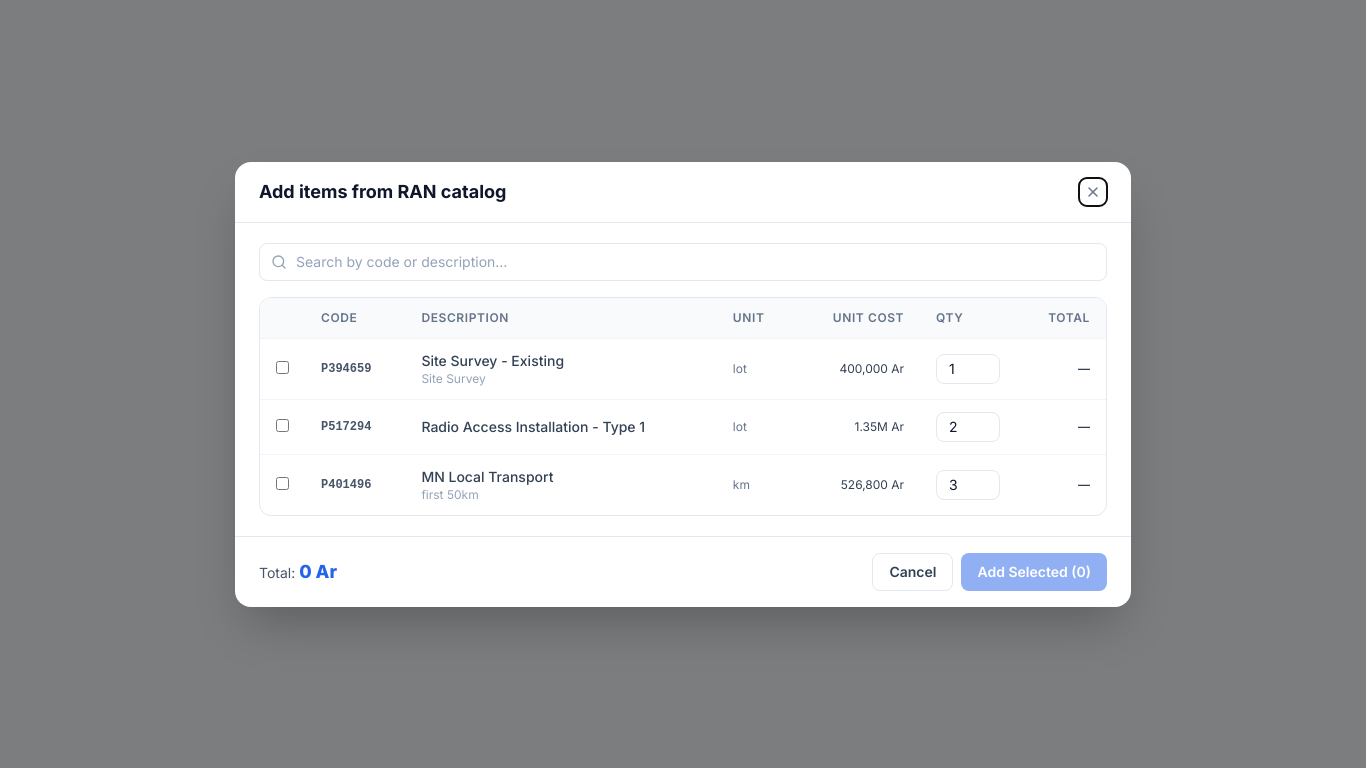
Test: ItemPickerModal — selection, quantity, totals › computes a live total from unit_cost × qty for checked rows
Click the checkbox named "Select P394659".
click(282, 367)  # box 276,360 -> 289,374
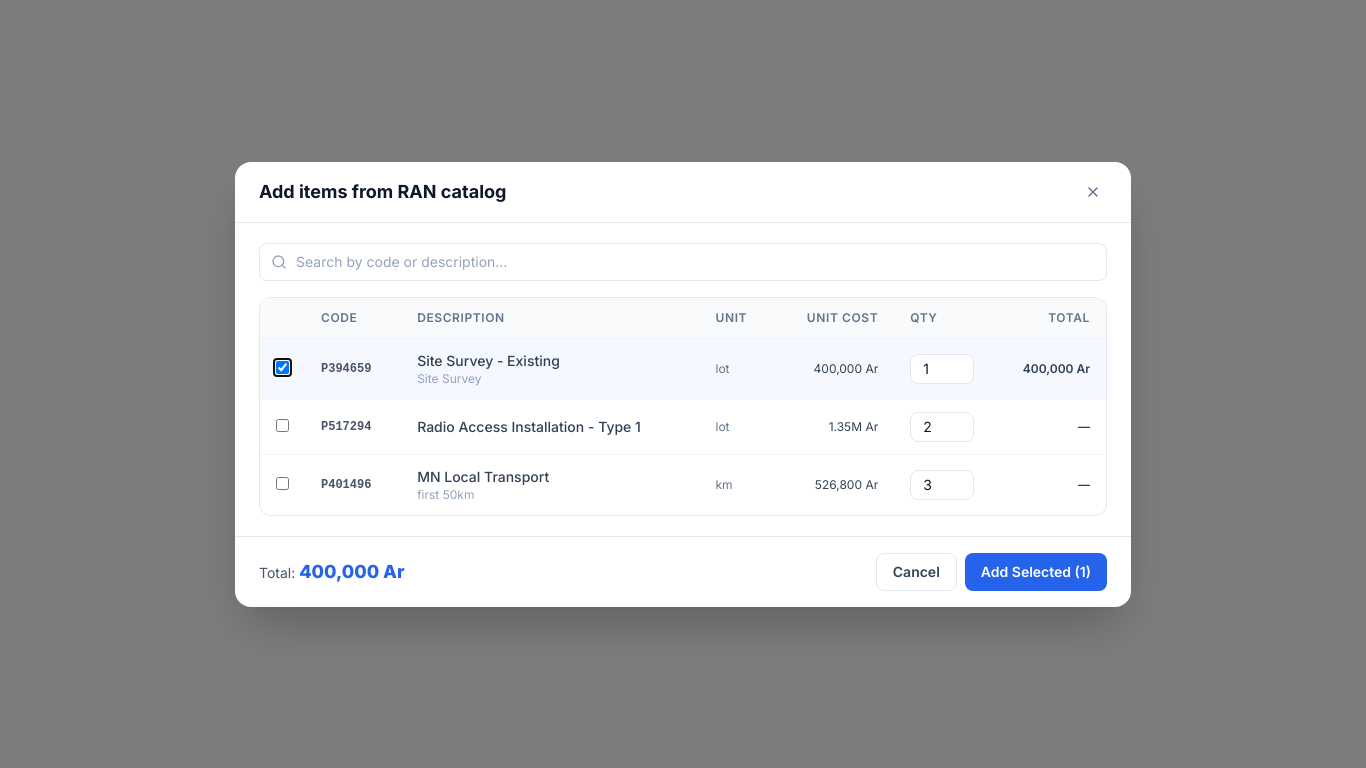
Click the checkbox named "Select P517294".
click(282, 425)  # box 276,418 -> 289,432
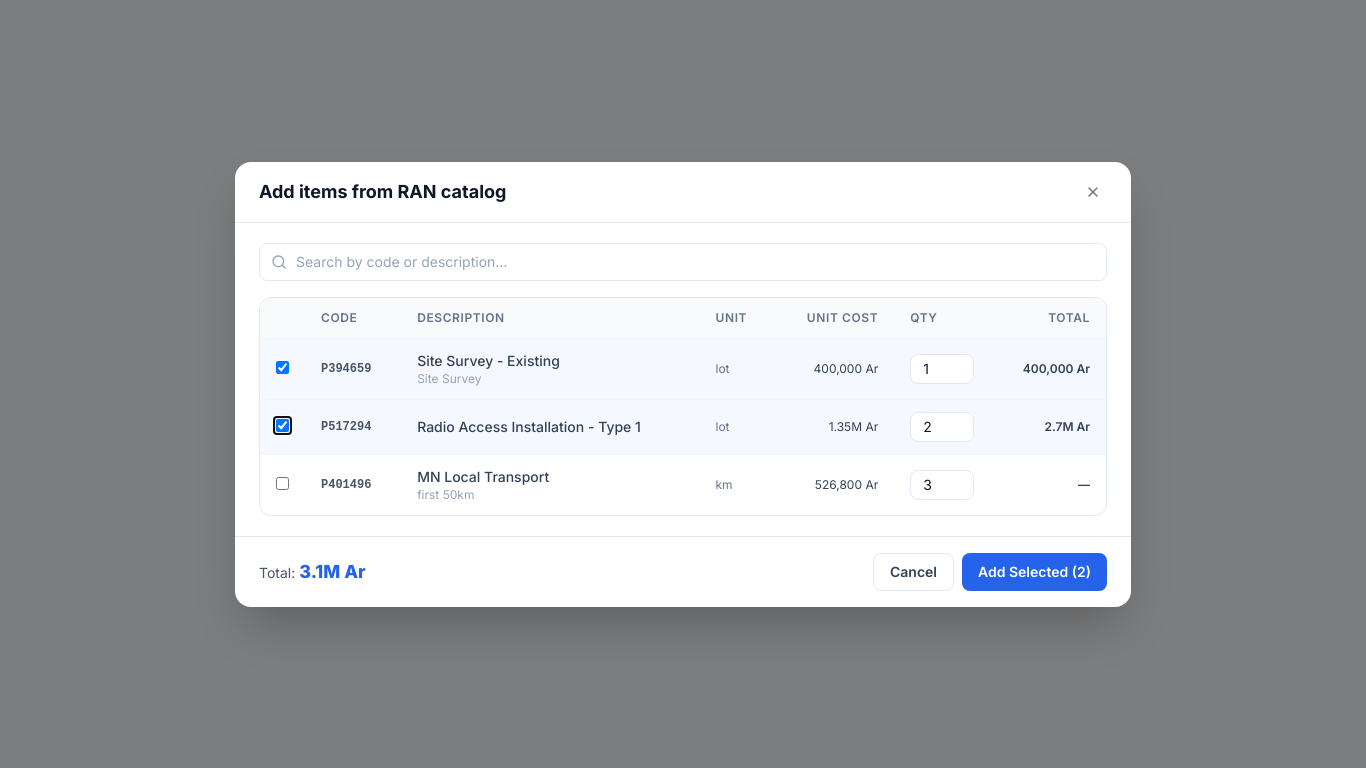
Expected: the text "3.1M Ar" is shown, 299,560 -> 366,582
Note: Change qty on a checked row → total updates.
Replace the text in the number field named "Quantity for P517294" with "5" at (942, 426), box 910,412 -> 974,442
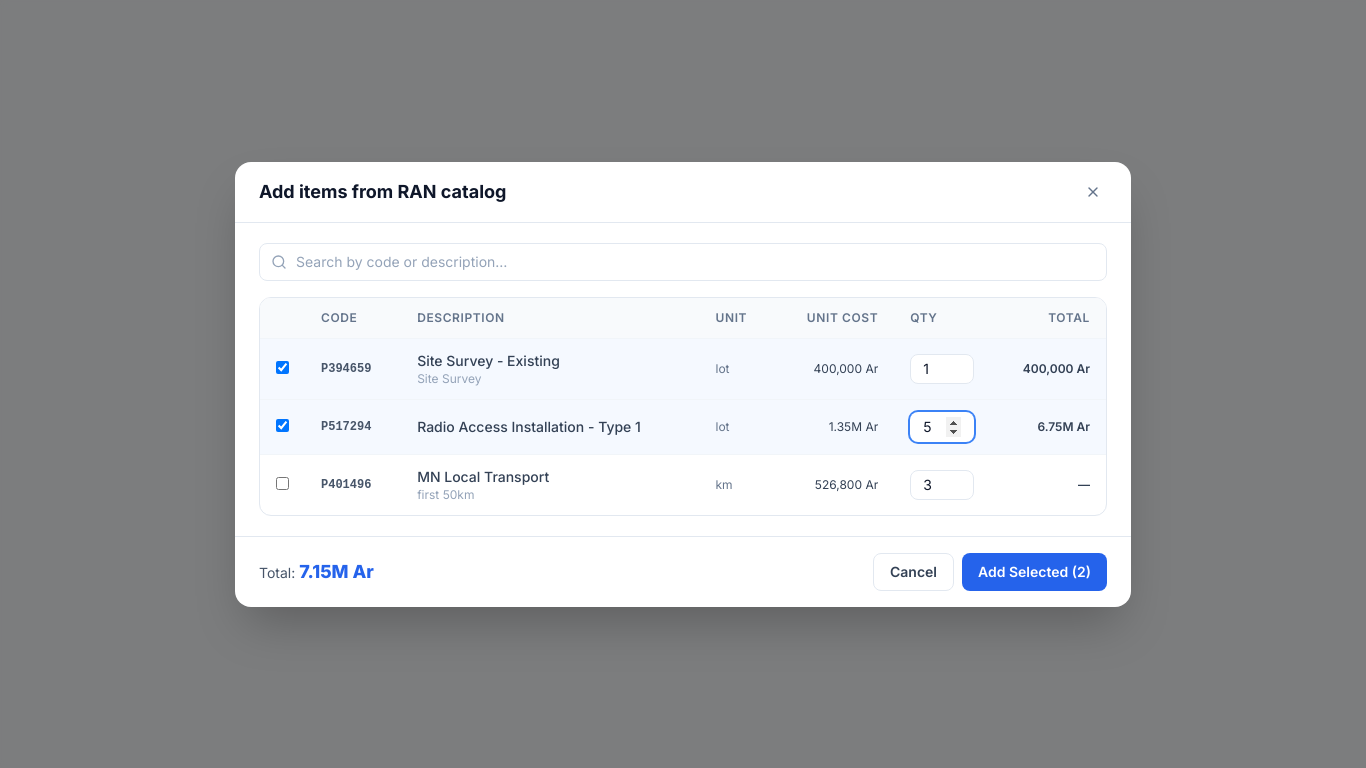
Expected: the text "7.15M Ar" is shown, 299,560 -> 374,582
